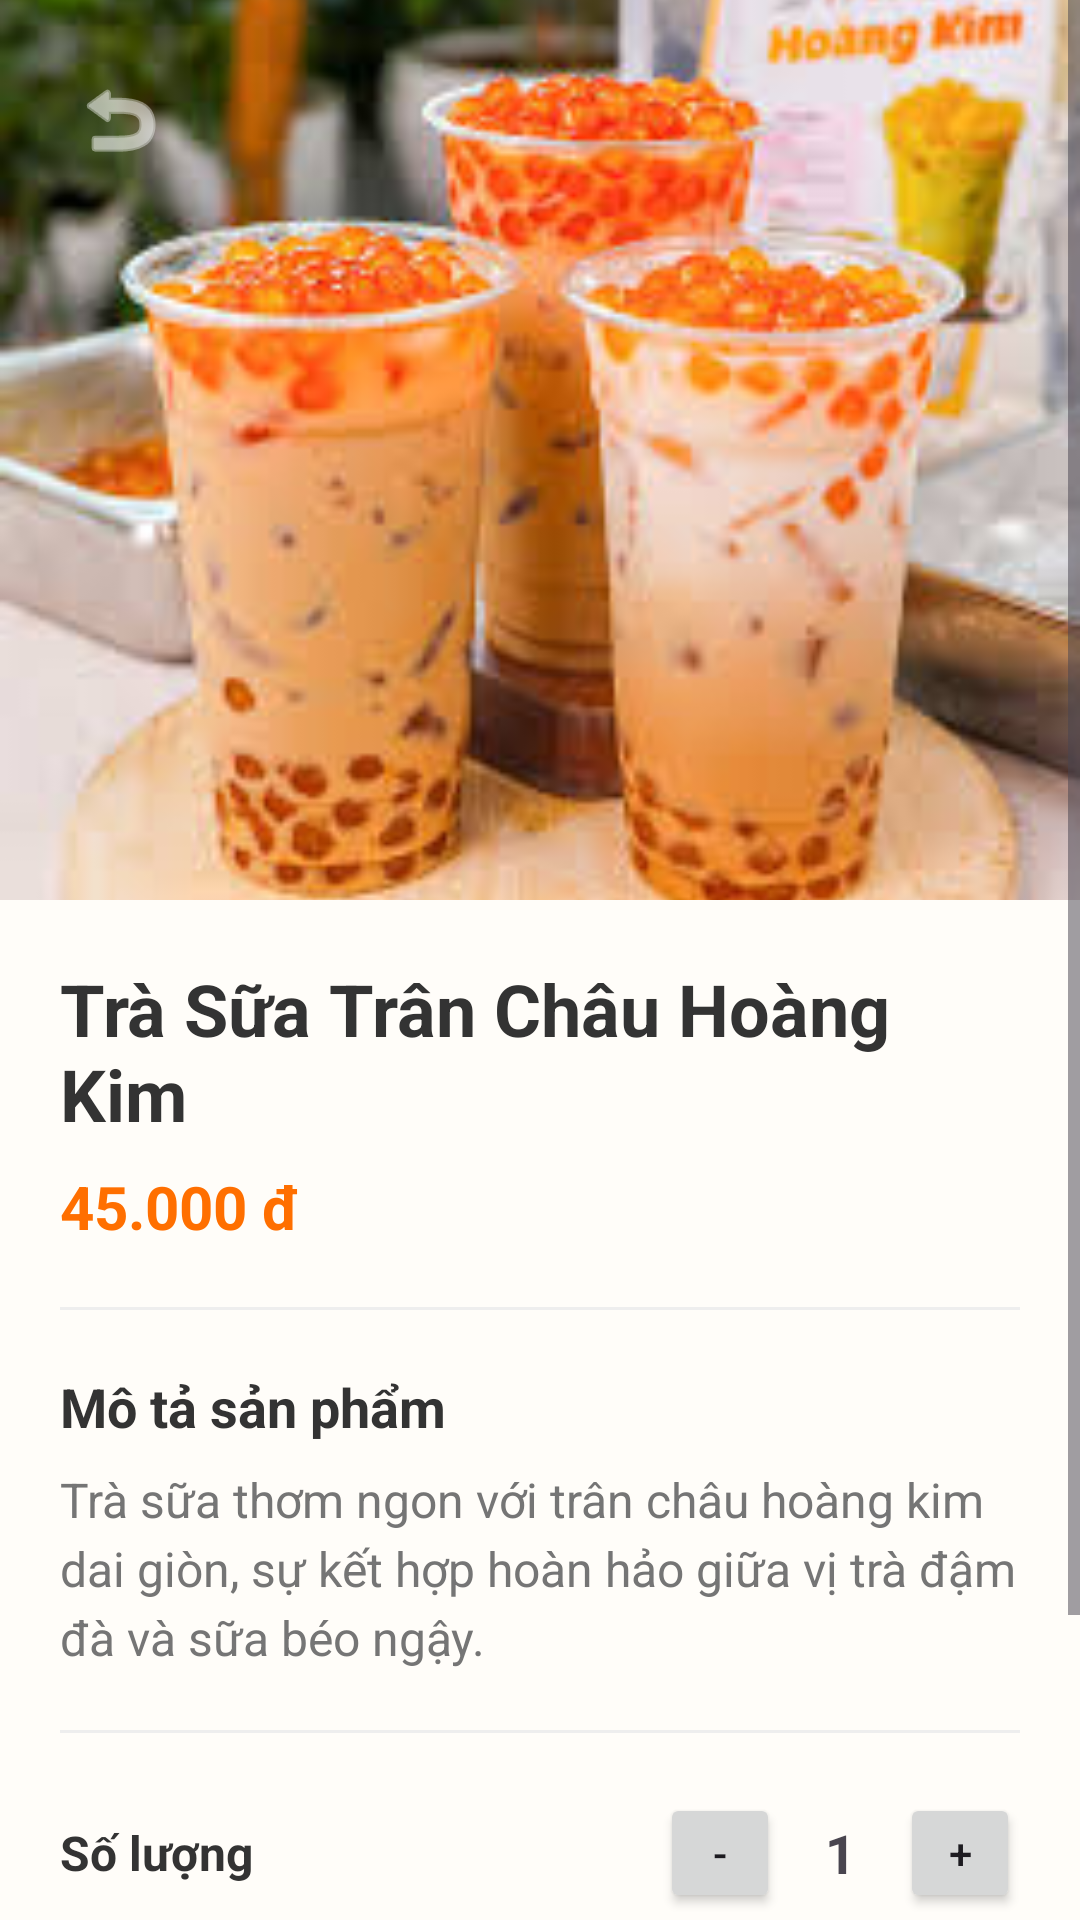

Icons on this 1080 × 1920 Android screen, each with the point to tap as (x=x, y=y):
revert: (x=120, y=120)
